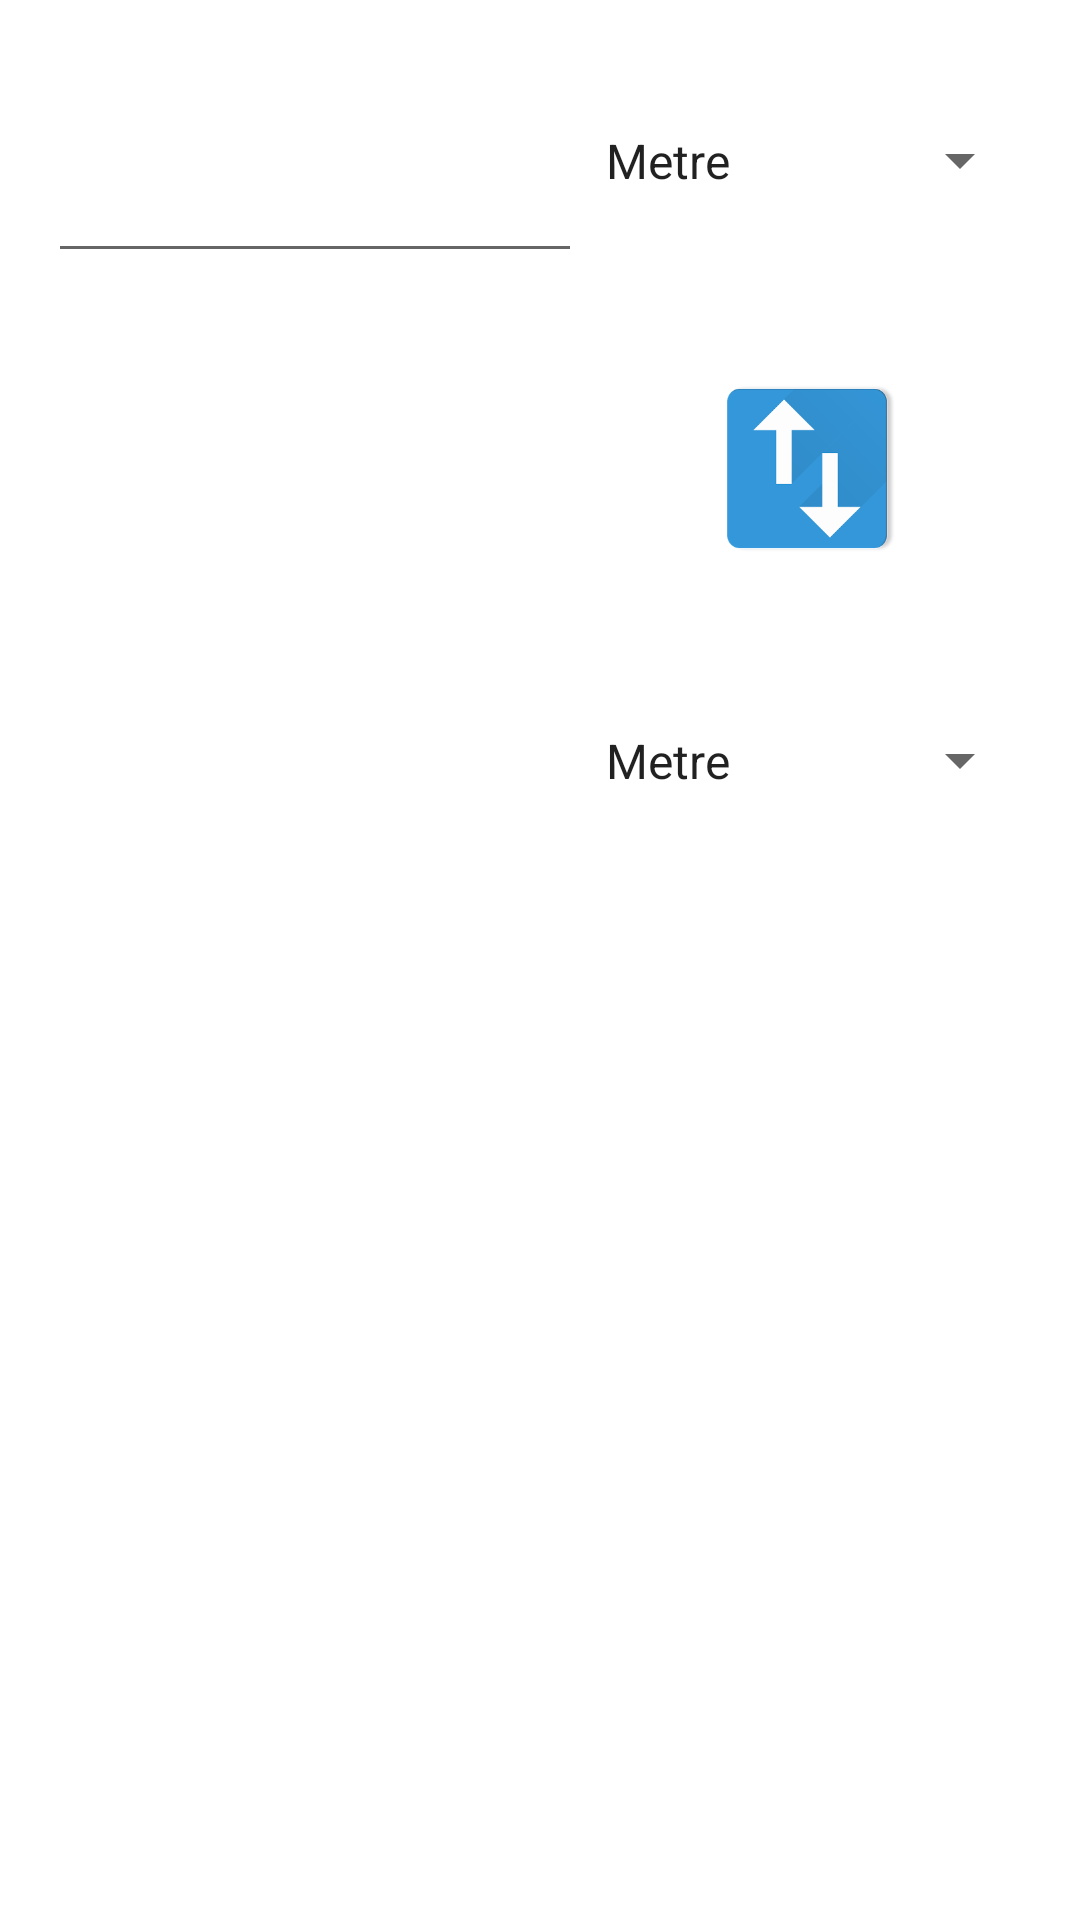

Icon click points for this 1080×1920 phone screenshot, format point (x, y):
converter: point (809, 468)
